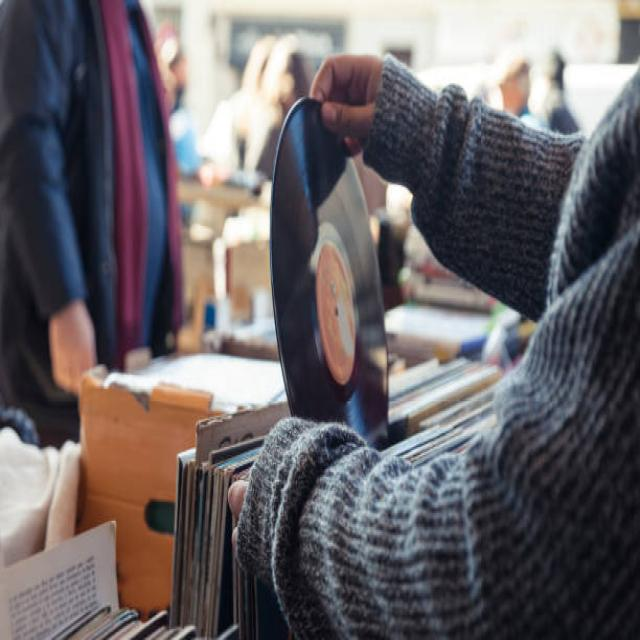plastic: (228, 91, 440, 461)
